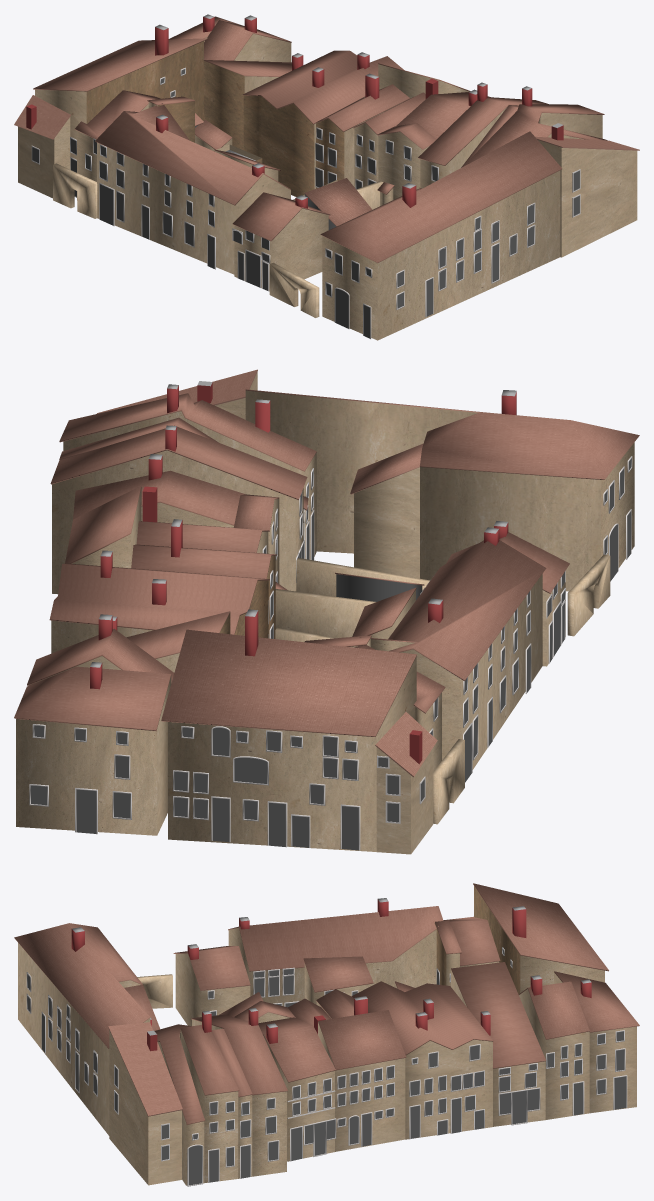
File: ilot46combine.fbx
3 views of the same model, one above another, from view 1: azimuth 30°, elevation 25°; view 2: azimuth 150°, elevation 25°; view 3: azimuth 270°, elevation 25° (orthographic). The views are drawn at different scales.
Parts seen in each view (by area): view 1: _ILOT46BAT1, _ILOT46BAT20, _ILOT46BAT16, _ILOT46BAT3, _ILOT46BAT26, _ILOT46BAT6, _ILOT46BAT17, _ILOT46BAT15, _ILOT46BAT24, _ILOT46BAT5, _ILOT46BAT18, _ILOT46BAT14 (+12 smaller); view 2: _ILOT46BAT3, _ILOT46BAT1, _ILOT46BAT19, _ILOT46BAT20, _ILOT46BAT5, _ILOT46BAT16, _ILOT46BAT18, _ILOT46BAT2, _ILOT46BAT24, _ILOT46BAT33, _ILOT46BAT17, _ILOT46BAT4 (+14 smaller); view 3: _ILOT46BAT1, _ILOT46BAT16, _ILOT46BAT20, _ILOT46BAT4, _ILOT46BAT26, _ILOT46BAT18, _ILOT46BAT15, _ILOT46BAT3, _ILOT46BAT33, _ILOT46BAT14, _ILOT46BAT19, _ILOT46BAT5 (+10 smaller).
Boxes of the visible parts, box(x1,y1,x2,y2) form: _ILOT46BAT1: box(320, 131, 562, 340); _ILOT46BAT20: box(95, 103, 290, 274); _ILOT46BAT16: box(242, 50, 404, 197); _ILOT46BAT3: box(33, 24, 207, 197); _ILOT46BAT26: box(535, 123, 639, 257); _ILOT46BAT6: box(232, 192, 330, 291); _ILOT46BAT17: box(315, 73, 409, 188); _ILOT46BAT15: box(204, 53, 303, 149); _ILOT46BAT24: box(14, 95, 70, 198); _ILOT46BAT5: box(418, 82, 548, 188); _ILOT46BAT18: box(463, 86, 607, 166); _ILOT46BAT14: box(204, 15, 291, 62); _ILOT46BAT3: box(161, 609, 416, 851); _ILOT46BAT1: box(245, 389, 639, 591); _ILOT46BAT19: box(14, 662, 171, 835); _ILOT46BAT20: box(359, 527, 546, 782); _ILOT46BAT5: box(50, 425, 307, 594); _ILOT46BAT16: box(49, 550, 269, 653); _ILOT46BAT18: box(59, 384, 316, 560); _ILOT46BAT2: box(350, 443, 423, 578); _ILOT46BAT24: box(375, 712, 437, 854); _ILOT46BAT33: box(73, 454, 245, 527); _ILOT46BAT17: box(131, 519, 276, 638); _ILOT46BAT4: box(65, 486, 141, 568); _ILOT46BAT1: box(14, 923, 150, 1135); _ILOT46BAT16: box(351, 981, 493, 1139); _ILOT46BAT20: box(228, 898, 443, 1007); _ILOT46BAT4: box(318, 1010, 406, 1151); _ILOT46BAT26: box(108, 1022, 182, 1185); _ILOT46BAT18: box(150, 1010, 239, 1186); _ILOT46BAT15: box(451, 962, 545, 1126); _ILOT46BAT3: box(473, 883, 608, 994); _ILOT46BAT33: box(258, 1017, 336, 1161); _ILOT46BAT14: box(518, 975, 589, 1119); _ILOT46BAT19: box(554, 971, 639, 1113); _ILOT46BAT5: box(191, 1008, 287, 1176).
Size of the model in its own units: 10.03 by 3.15 by 12.52.
